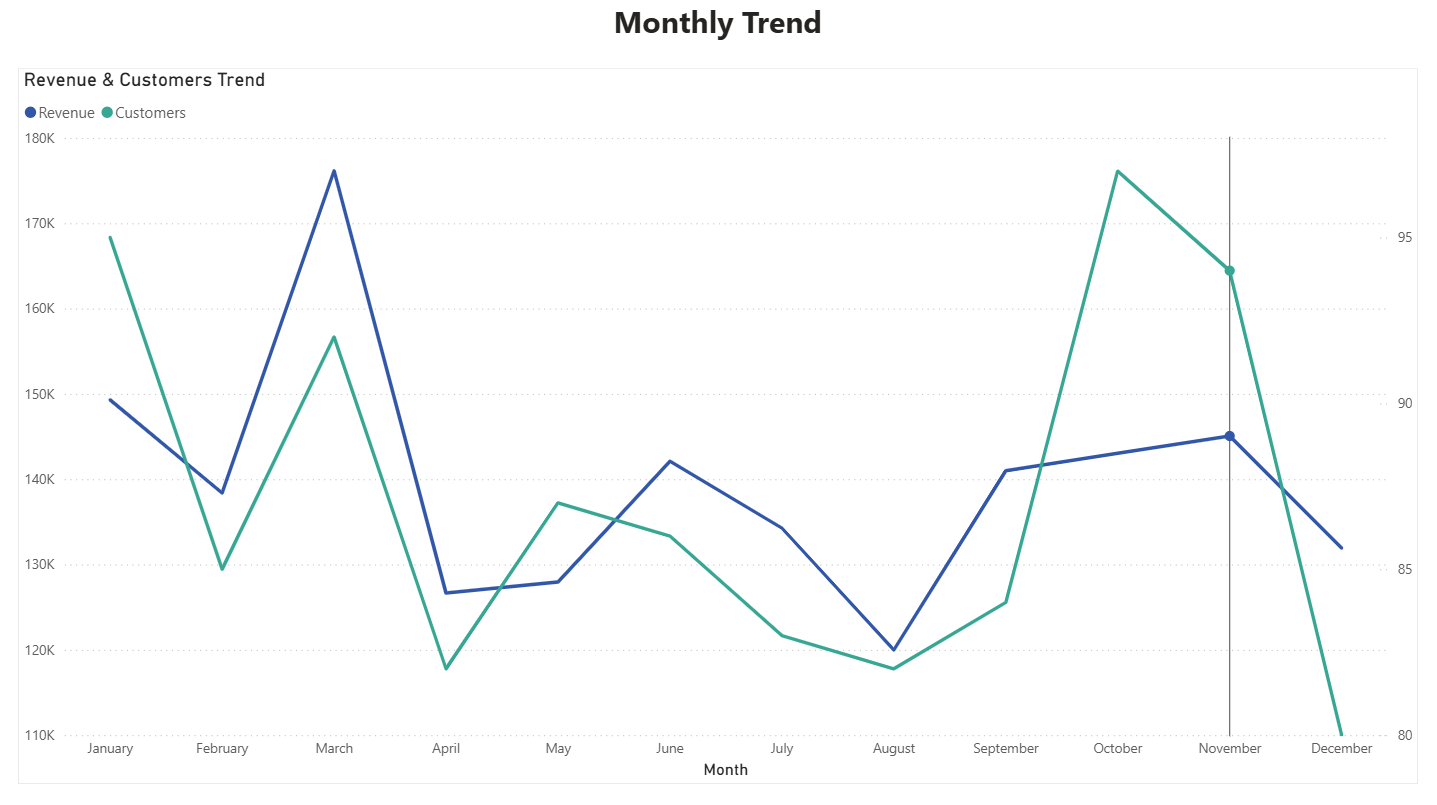

What the dashboard file says about the page in this screenshot:
{"tool":"powerbi","page":{"name":"Monthly Trend","canvas":[1280,720],"ordinal":2},"visuals":[{"type":"lineChart","title":"Revenue & Customers Trend","fields":{"Category":["monthly_trend.month.Variation.Date Hierarchy.Month"],"Y":["Sum(monthly_trend.total_revenue)"],"Y2":["Sum(monthly_trend.unique_customers)"]},"box":[19.5,64.7,1241.4,634.9],"z":0},{"type":"textbox","box":[0,0,1280,64.7],"z":1000}]}

Visuals, with their boxes in screenshot pixels (x1, y1, x2, y2), scaled from the page's 1280x720 canvas onto the 1437x805 screenshot:
"Revenue & Customers Trend" lineChart: {"left": 22, "top": 72, "right": 1416, "bottom": 782}
textbox: {"left": 0, "top": 0, "right": 1436, "bottom": 72}
